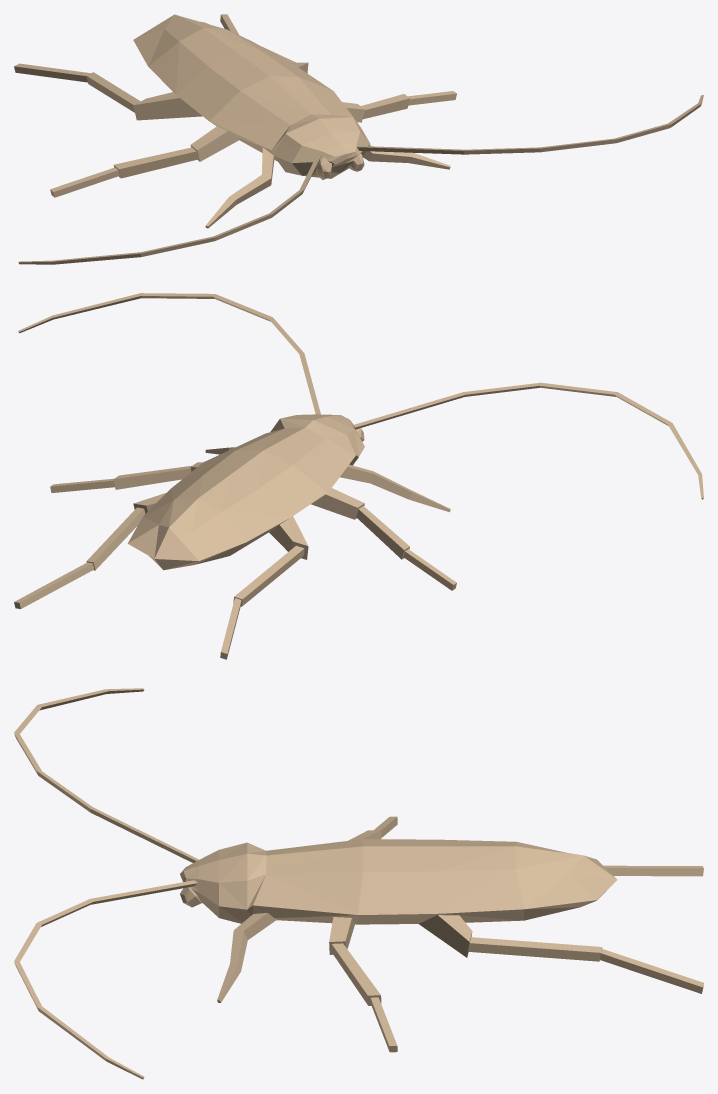
3 renders of one model, top to bottom at view 1: azimuth 30°, elevation 25°; view 2: azimuth 150°, elevation 25°; view 3: azimuth 270°, elevation 25°, orthographic. The views are drawn at different scales.
Visible parts, largest first — view 1: Geo_Cockroach_1; view 2: Geo_Cockroach_1; view 3: Geo_Cockroach_1.
Boxes of the visible parts, x1=… form: Geo_Cockroach_1: x1=14, y1=14, x2=703, y2=264; Geo_Cockroach_1: x1=14, y1=293, x2=703, y2=659; Geo_Cockroach_1: x1=14, y1=688, x2=703, y2=1079.
Size of the model in its own units: 96.67 by 10.85 by 72.36.
